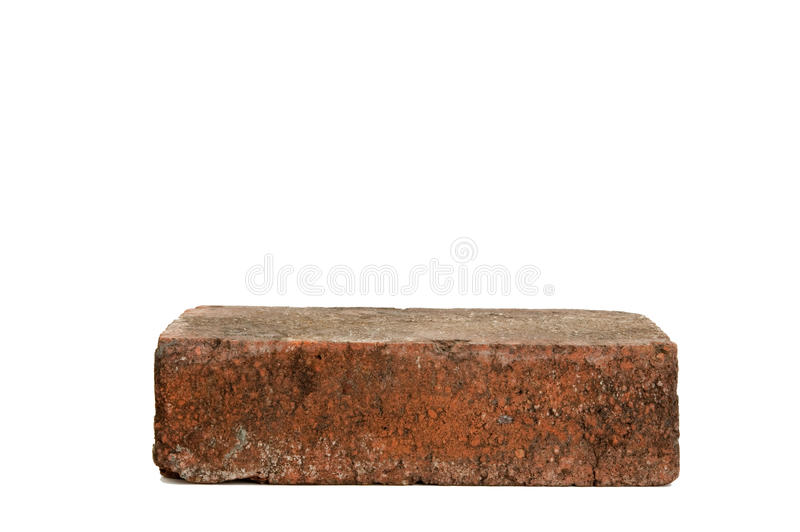brick: (157, 336, 680, 488)
